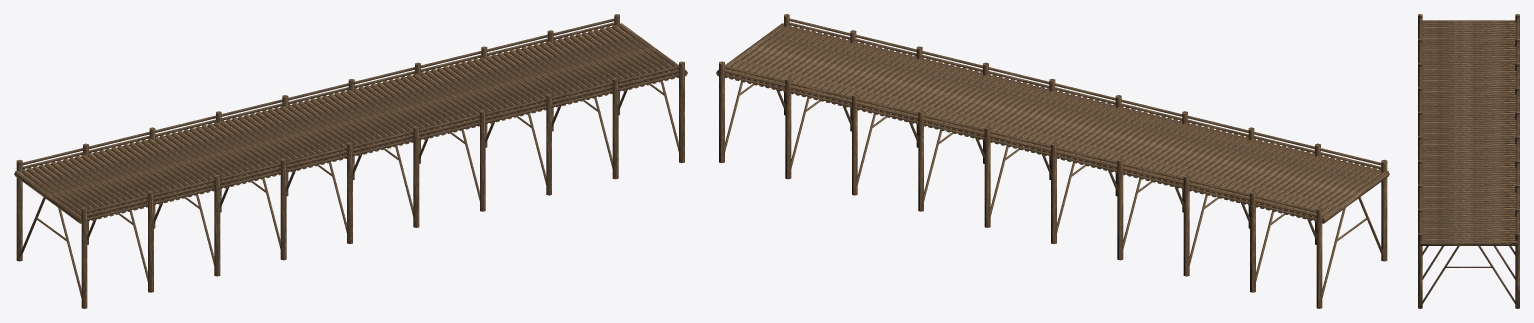
File: woodenbridge.obj
The picture shows the model from 3 angles, left to right: view 1: azimuth 30°, elevation 25°; view 2: azimuth 150°, elevation 25°; view 3: azimuth 270°, elevation 25°; orthographic projection. The views are drawn at different scales.
Visible parts, largest first — view 1: Cylinder107, Cylinder116, Cylinder110, Cylinder112, Cylinder122, Cylinder106, Cylinder108, Cylinder118, Cylinder114, Cylinder124, Cylinder120, Cylinder003; view 2: Cylinder106, Cylinder117, Cylinder111, Cylinder113, Cylinder123, Cylinder107, Cylinder119, Cylinder109, Cylinder115, Cylinder125, Cylinder121, Cylinder003; view 3: Cylinder103, Cylinder124, Cylinder125, Cylinder004, Cylinder009, Cylinder017, Cylinder018, Cylinder019, Cylinder020, Cylinder026, Cylinder027, Cylinder028 (+96 smaller).
Part boxes in pixels (<box>): Cylinder107: <box>81,207,87,308</box>; Cylinder116: <box>413,126,419,227</box>; Cylinder110: <box>214,175,220,276</box>; Cylinder112: <box>280,158,286,260</box>; Cylinder122: <box>612,77,618,179</box>; Cylinder106: <box>16,159,22,261</box>; Cylinder108: <box>148,191,153,292</box>; Cylinder118: <box>480,110,485,211</box>; Cylinder114: <box>347,142,352,243</box>; Cylinder124: <box>679,61,684,162</box>; Cylinder120: <box>546,94,551,195</box>; Cylinder003: <box>14,171,81,223</box>; Cylinder106: <box>1316,207,1322,308</box>; Cylinder117: <box>984,126,990,227</box>; Cylinder111: <box>1183,175,1189,276</box>; Cylinder113: <box>1117,158,1123,260</box>; Cylinder123: <box>785,77,791,179</box>; Cylinder107: <box>1381,159,1387,261</box>; Cylinder119: <box>918,110,923,211</box>; Cylinder109: <box>1250,191,1255,292</box>; Cylinder115: <box>1051,142,1056,243</box>; Cylinder125: <box>719,61,724,162</box>; Cylinder121: <box>852,94,857,195</box>; Cylinder003: <box>1322,171,1389,223</box>; Cylinder103: <box>1420,241,1517,245</box>; Cylinder124: <box>1418,232,1422,308</box>; Cylinder125: <box>1515,232,1519,308</box>; Cylinder004: <box>1421,22,1516,24</box>; Cylinder009: <box>1421,33,1516,35</box>; Cylinder017: <box>1421,51,1516,53</box>; Cylinder018: <box>1421,53,1516,55</box>; Cylinder019: <box>1421,55,1516,57</box>; Cylinder020: <box>1421,57,1516,59</box>; Cylinder026: <box>1421,71,1516,73</box>; Cylinder027: <box>1421,73,1516,75</box>; Cylinder028: <box>1421,75,1516,77</box>.
Size of the model in its own units: 516 by 80 by 99.39.
1 material, 1 textured.
